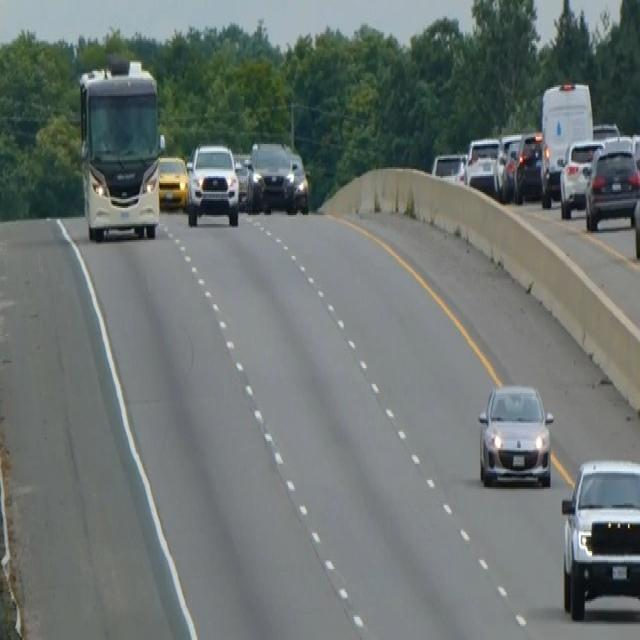bus: (76, 53, 165, 242)
car: (560, 455, 639, 621), (476, 381, 554, 487), (584, 137, 639, 231), (186, 140, 240, 228), (558, 137, 603, 219), (249, 138, 293, 212), (463, 135, 501, 196), (512, 130, 544, 202), (493, 130, 521, 201), (157, 153, 188, 210), (234, 156, 264, 214), (284, 150, 309, 213), (431, 149, 466, 183), (233, 156, 250, 208), (632, 175, 639, 262)
